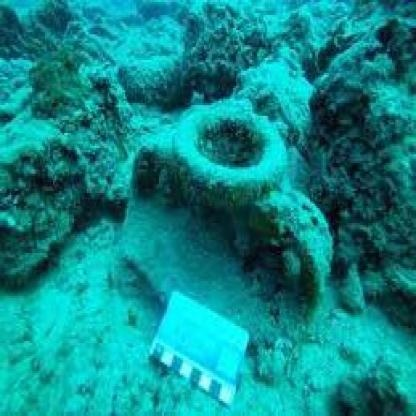tire: (165, 112, 299, 208)
